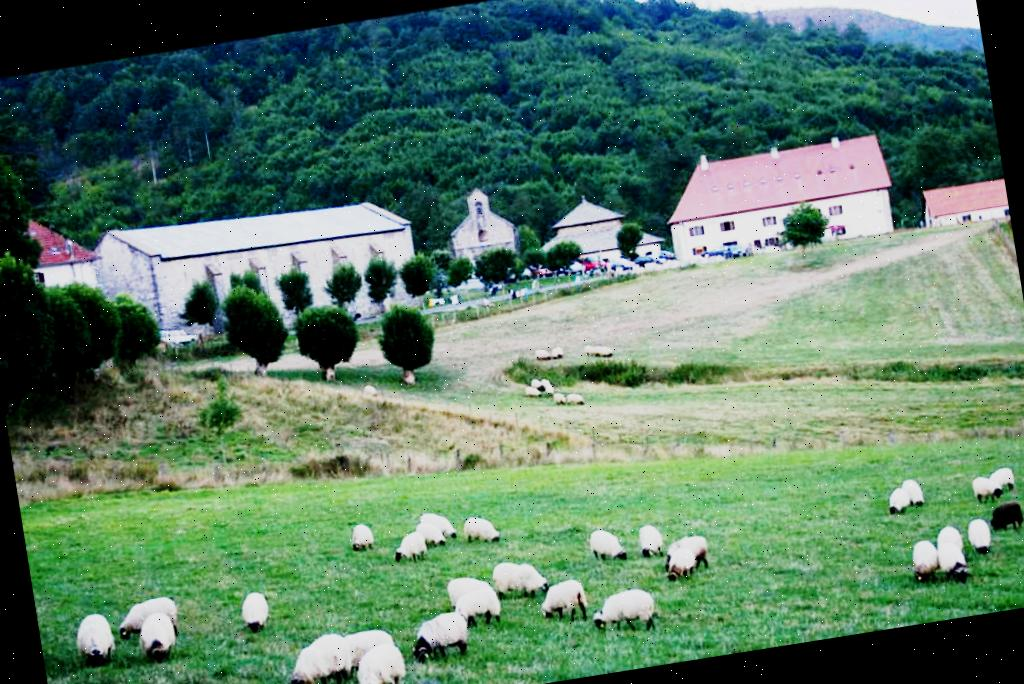Sheep: (282, 628, 359, 684), (408, 608, 478, 666), (590, 586, 658, 641), (115, 594, 178, 641), (74, 612, 122, 672), (492, 552, 548, 602), (136, 609, 186, 665), (351, 639, 411, 684), (538, 579, 590, 629), (662, 534, 712, 575), (453, 586, 503, 627), (906, 535, 940, 587), (934, 538, 972, 584), (390, 530, 433, 569), (588, 526, 632, 564), (238, 588, 273, 634), (420, 508, 460, 545), (662, 546, 700, 582), (462, 512, 500, 548), (985, 500, 1024, 535), (965, 514, 996, 558), (633, 522, 668, 558), (970, 472, 1006, 505), (413, 520, 448, 552), (900, 475, 928, 508), (884, 486, 912, 518), (349, 522, 377, 554), (988, 466, 1016, 495), (566, 391, 586, 408), (534, 346, 552, 362), (524, 384, 542, 399)
